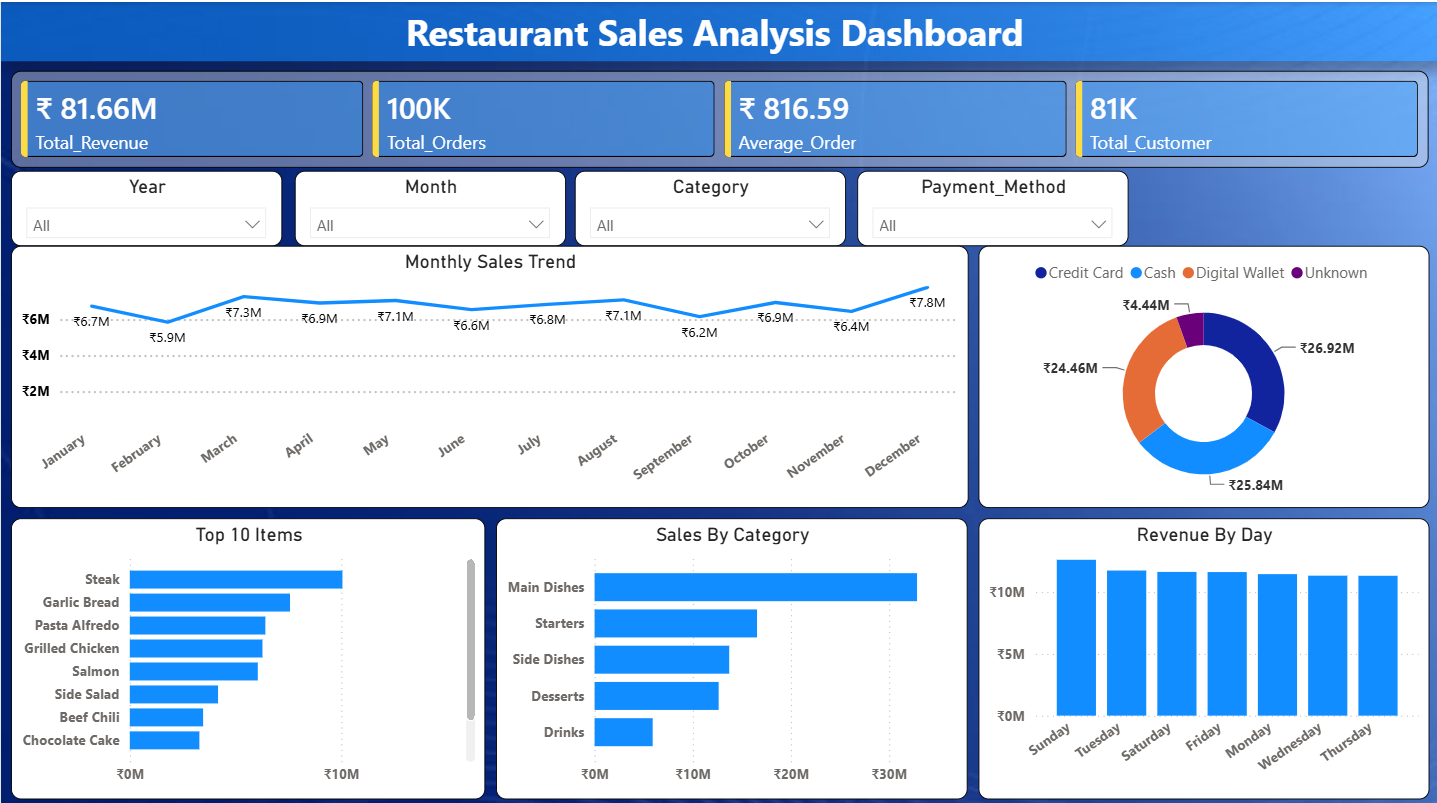

What the dashboard file says about the page in this screenshot:
{"tool":"powerbi","page":{"name":"Chart_1","canvas":[1280,720],"ordinal":0},"visuals":[{"type":"textbox","box":[0,0,1280,52.5],"z":0},{"type":"cardVisual","fields":{"Data":["restaurant_sales_cleaned_data.Total_Revenue","restaurant_sales_cleaned_data.Total_Orders","restaurant_sales_cleaned_data.Average_Order","restaurant_sales_cleaned_data.Total_Customer"]},"box":[8.8,61.2,1262.5,86],"z":1000},{"type":"slicer","title":"Year","fields":{"Values":["restaurant_sales_cleaned_data.Year"]},"box":[8.8,150,241.2,67.5],"z":2000},{"type":"slicer","title":"Month","fields":{"Values":["restaurant_sales_cleaned_data.Month"]},"box":[261.2,150,241.2,67.5],"z":3000},{"type":"slicer","title":"Category","fields":{"Values":["restaurant_sales_cleaned_data.Category"]},"box":[511.2,150,241.2,67.5],"z":4000},{"type":"slicer","title":"Payment_Method","fields":{"Values":["restaurant_sales_cleaned_data.Payment_Method"]},"box":[762.5,150,241.2,67.5],"z":5000},{"type":"lineChart","title":"Monthly Sales Trend","fields":{"Category":["restaurant_sales_cleaned_data.Order_Date.Variation.Date Hierarchy.Month"],"Y":["restaurant_sales_cleaned_data.Total_Revenue"]},"box":[8.8,217.5,852.5,233.8],"z":6000},{"type":"clusteredBarChart","title":"Sales By Category","fields":{"Category":["restaurant_sales_cleaned_data.Category"],"Y":["restaurant_sales_cleaned_data.Total_Revenue"]},"box":[441.2,460,420,250],"z":7000},{"type":"donutChart","fields":{"Category":["restaurant_sales_cleaned_data.Payment_Method"],"Y":["restaurant_sales_cleaned_data.Total_Revenue"]},"box":[870,217.5,401.2,233.8],"z":8000},{"type":"barChart","title":"Top 10 Items","fields":{"Category":["restaurant_sales_cleaned_data.Item"],"Y":["restaurant_sales_cleaned_data.Total_Revenue"]},"box":[8.8,460,422.5,250],"z":9000},{"type":"columnChart","title":"Revenue By Day","fields":{"Y":["restaurant_sales_cleaned_data.Total_Revenue"],"Category":["restaurant_sales_cleaned_data.Day_Name"]},"box":[870,460,401.2,250],"z":10000}]}

Visuals, with their boxes in screenshot pixels (x1, y1, x2, y2), scaled from the page's 1280x720 canvas onto the 1437x803 screenshot:
textbox: BBox(0, 0, 1436, 59)
cardVisual - restaurant_sales_cleaned_data.Total_Revenue x restaurant_sales_cleaned_data.Total_Orders: BBox(10, 68, 1427, 164)
"Year" slicer: BBox(10, 167, 281, 243)
"Month" slicer: BBox(293, 167, 564, 243)
"Category" slicer: BBox(574, 167, 845, 243)
"Payment_Method" slicer: BBox(856, 167, 1127, 243)
"Monthly Sales Trend" lineChart: BBox(10, 243, 967, 503)
"Sales By Category" clusteredBarChart: BBox(495, 513, 967, 792)
donutChart - restaurant_sales_cleaned_data.Payment_Method x restaurant_sales_cleaned_data.Total_Revenue: BBox(977, 243, 1427, 503)
"Top 10 Items" barChart: BBox(10, 513, 484, 792)
"Revenue By Day" columnChart: BBox(977, 513, 1427, 792)
